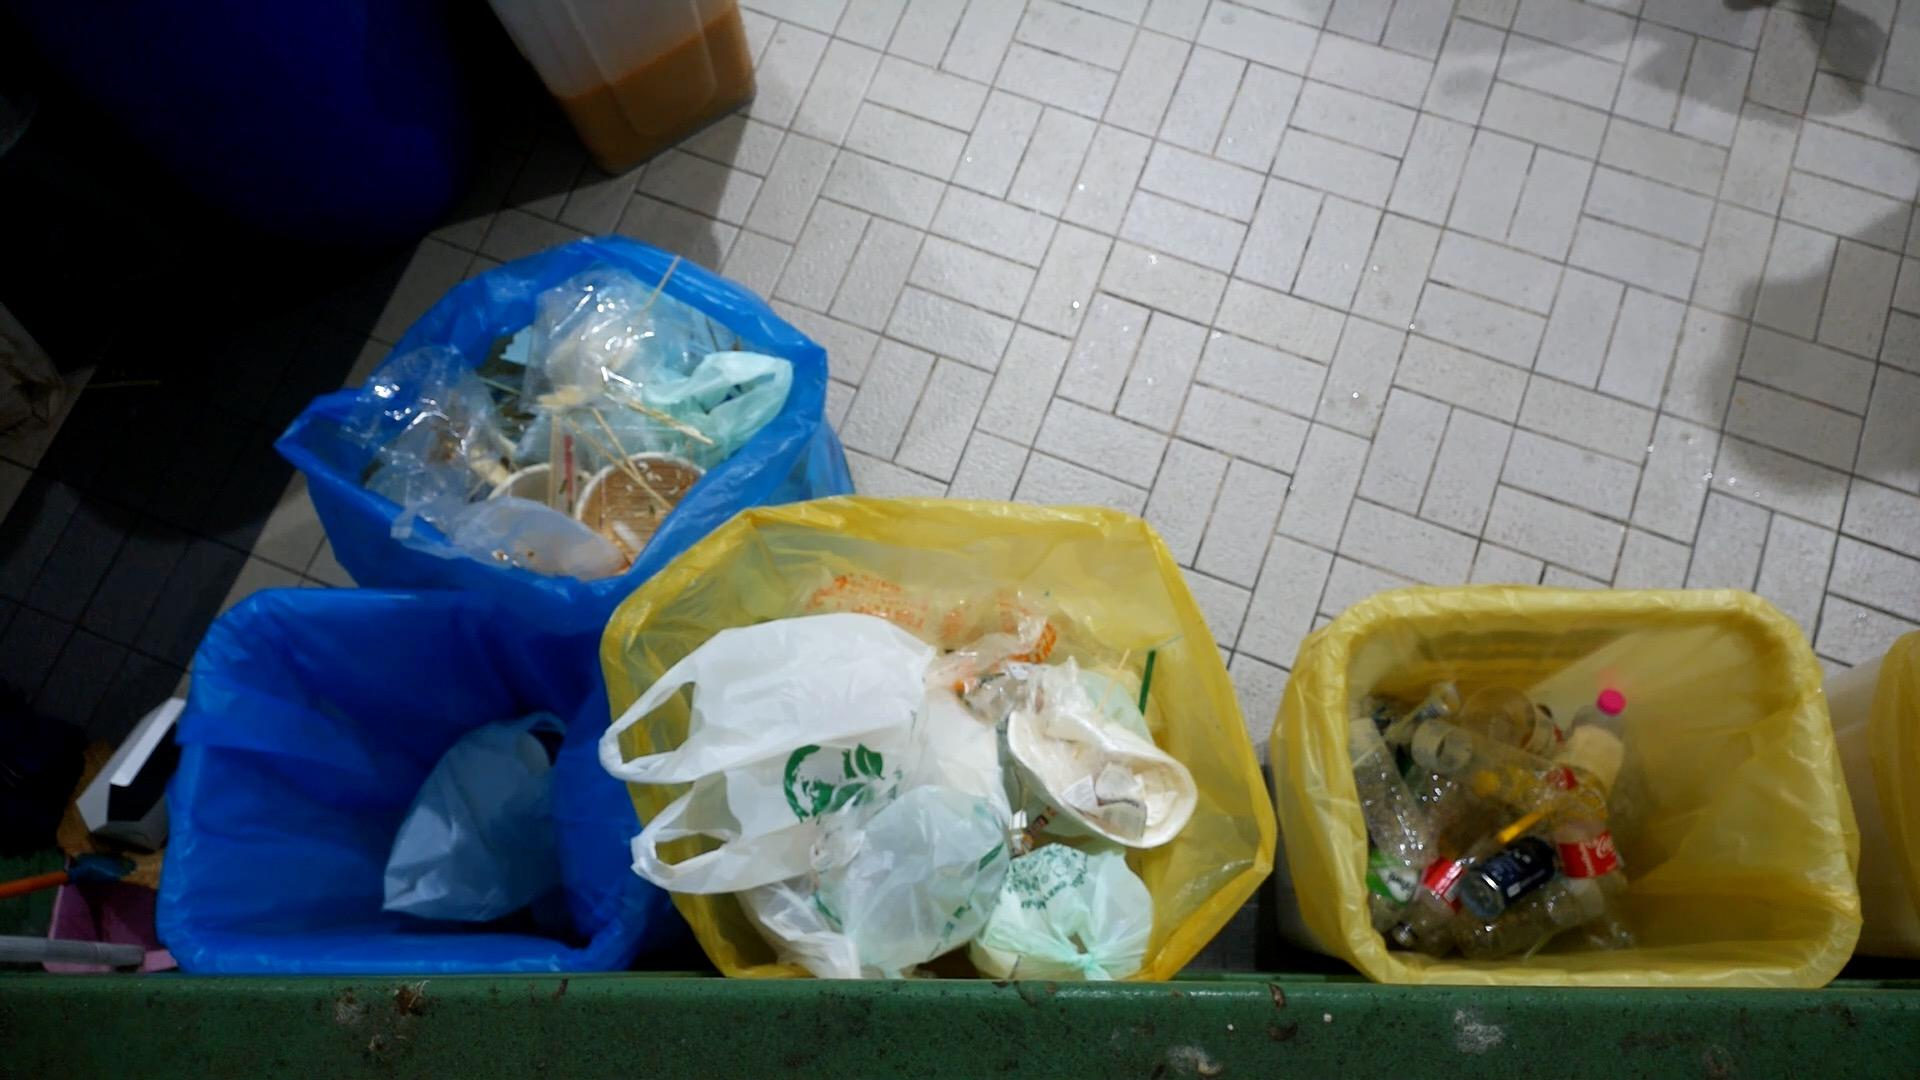can: (1456, 829, 1560, 926)
dirty food container: (579, 451, 708, 575)
filled plastic bag: (595, 609, 938, 901), (369, 709, 578, 932), (814, 778, 1015, 968), (1002, 682, 1205, 857), (964, 832, 1159, 1006), (389, 485, 625, 584)
plastic bag: (365, 344, 512, 531), (518, 266, 684, 410), (671, 335, 814, 462)
plastic bottle: (1385, 716, 1564, 816), (1552, 767, 1644, 949), (1350, 704, 1440, 870)
plastic cup: (1461, 675, 1556, 761)
sticks: (567, 411, 680, 518), (603, 390, 716, 444), (641, 255, 684, 309)
straw: (1135, 637, 1159, 732)
